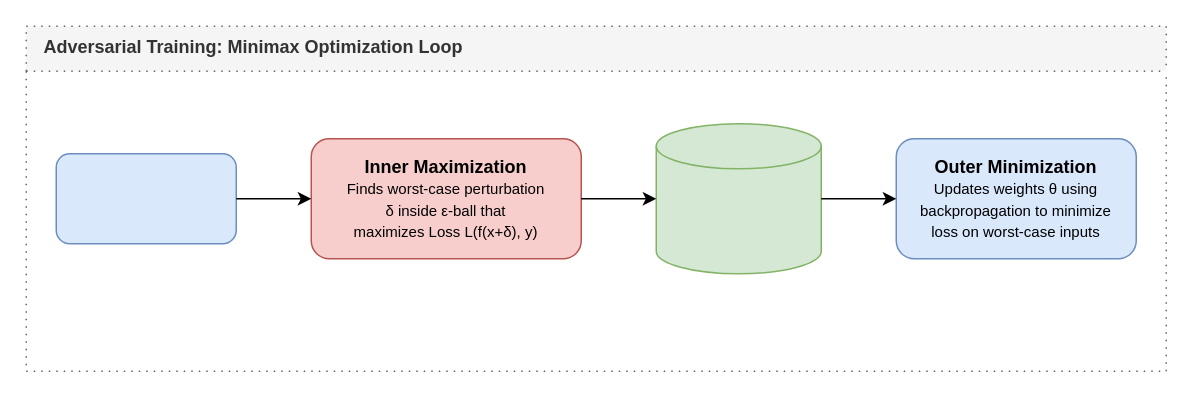
The diagram is 1193 pixels wide and 398 high, and some of its shapes have lost their labels. The shapes that lost their labels are listed below. From the top down, each one's centre as x and y in pixels, then its label:
[145,198]: Clean Sample Input: x Label: y
[738,198]: Model Ingest Evaluates perturbed sample: x + δ
